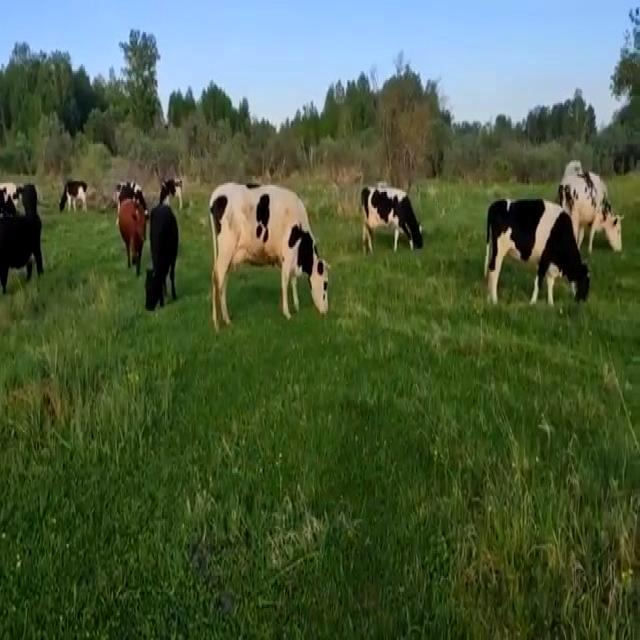COW: (485, 162, 621, 303), (209, 184, 329, 328), (118, 182, 179, 308), (361, 187, 422, 252)
